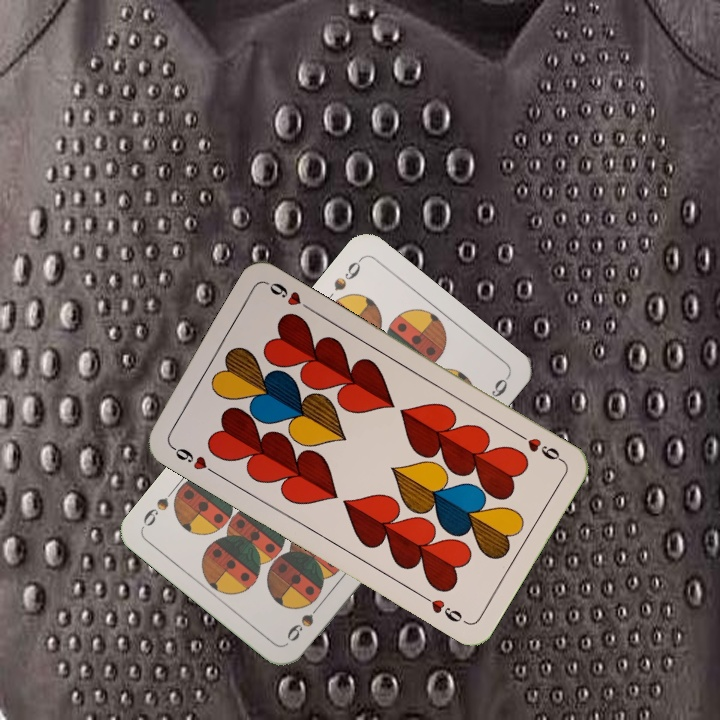H9: (512, 428, 566, 465), (166, 441, 220, 478)
S9: (282, 596, 327, 645), (329, 254, 365, 294)
